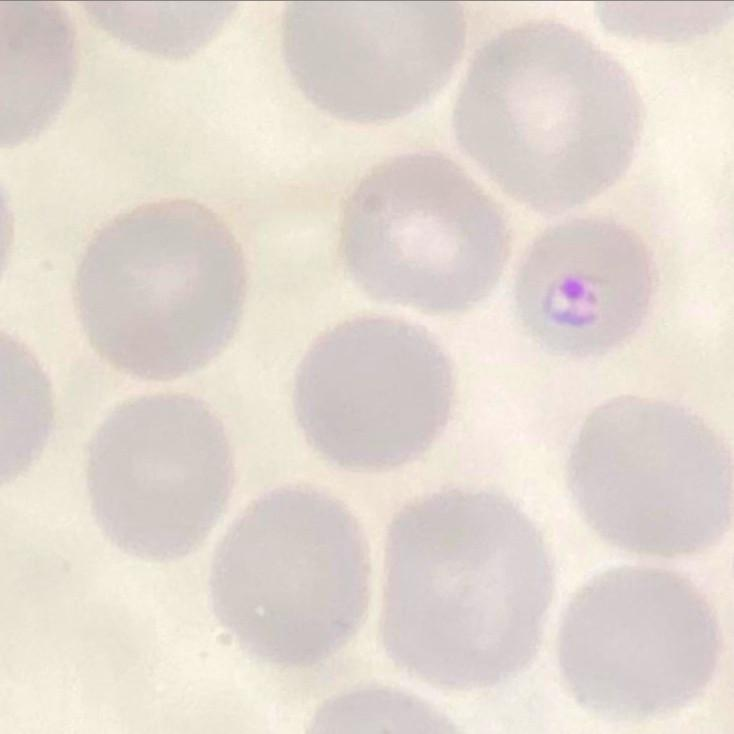Infected: (514, 217, 659, 357)
Uninfected: (452, 19, 643, 210), (382, 487, 551, 693), (72, 197, 249, 381), (342, 149, 509, 317), (566, 391, 733, 558), (216, 487, 367, 671), (290, 313, 451, 473), (556, 563, 721, 719), (86, 393, 231, 564), (280, 0, 470, 122)
